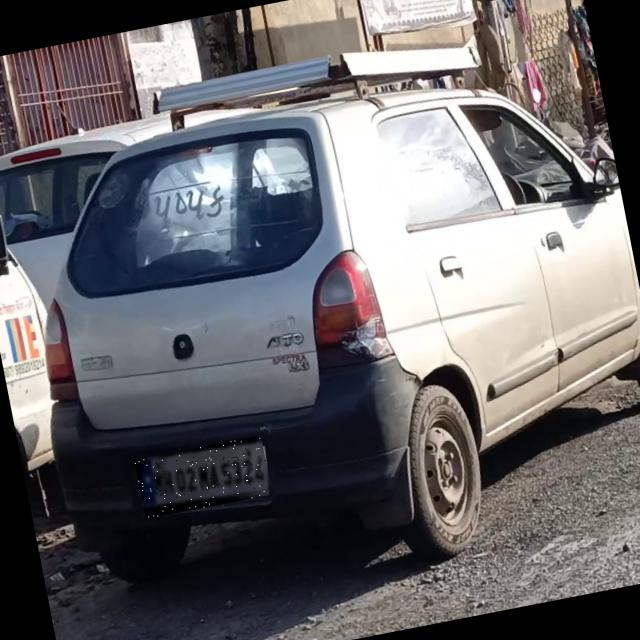Plate: (136, 436, 274, 520)
